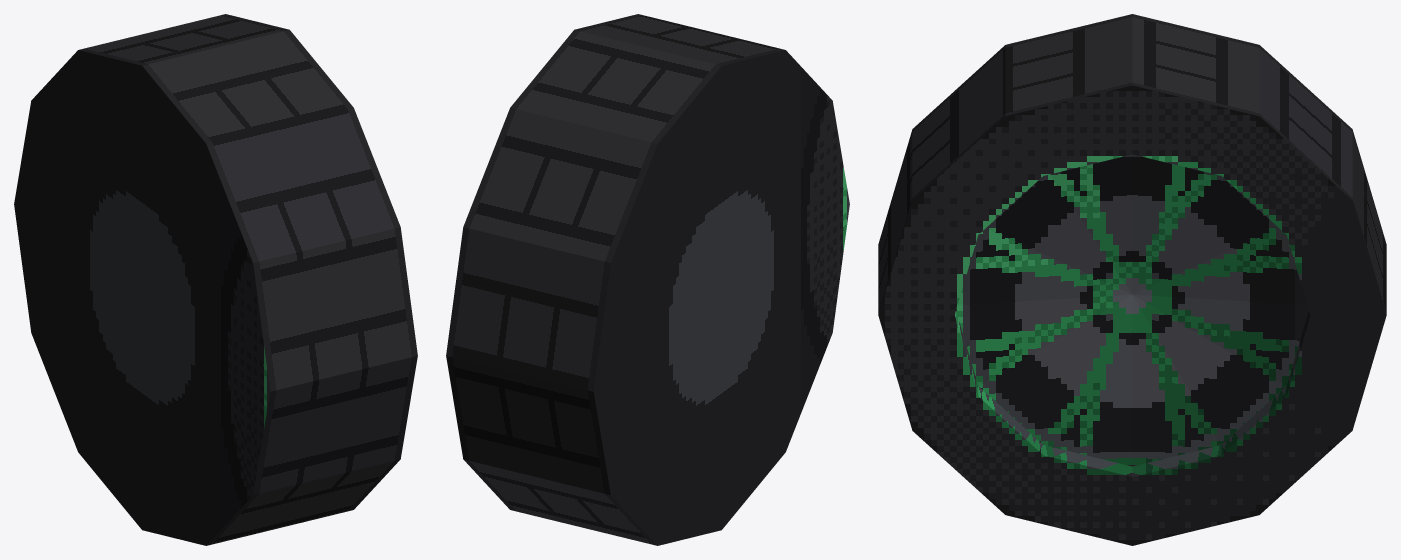
Rendered from wheel_eight.glb.
3 views of the same model, side by side, from view 1: azimuth 30°, elevation 25°; view 2: azimuth 150°, elevation 25°; view 3: azimuth 270°, elevation 25° (orthographic).
Visible parts, largest first — view 1: wheel_eight; view 2: wheel_eight; view 3: wheel_eight.
Boxes of the visible parts, x1,y1,x2,y2 form: wheel_eight: (14, 14, 417, 545); wheel_eight: (446, 14, 849, 545); wheel_eight: (878, 14, 1386, 545).
Bounding box in the file's own units: 0.205 × 0.6163 × 0.6163.
Materials: 1 (1 with a texture image).
